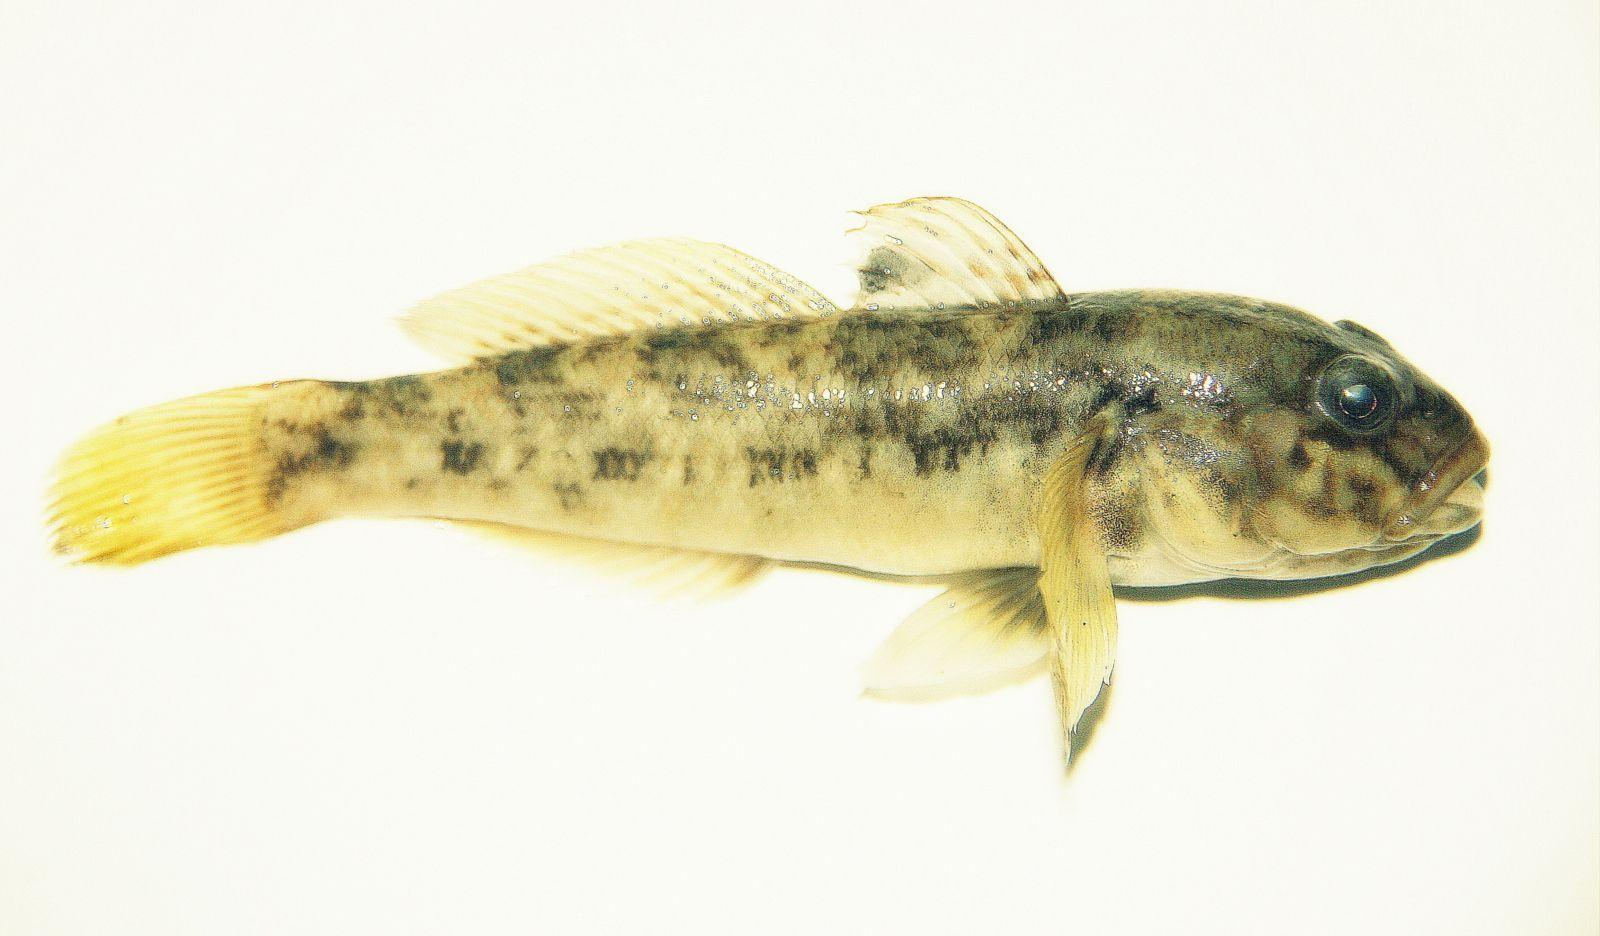Goby: (36, 175, 1497, 780)
